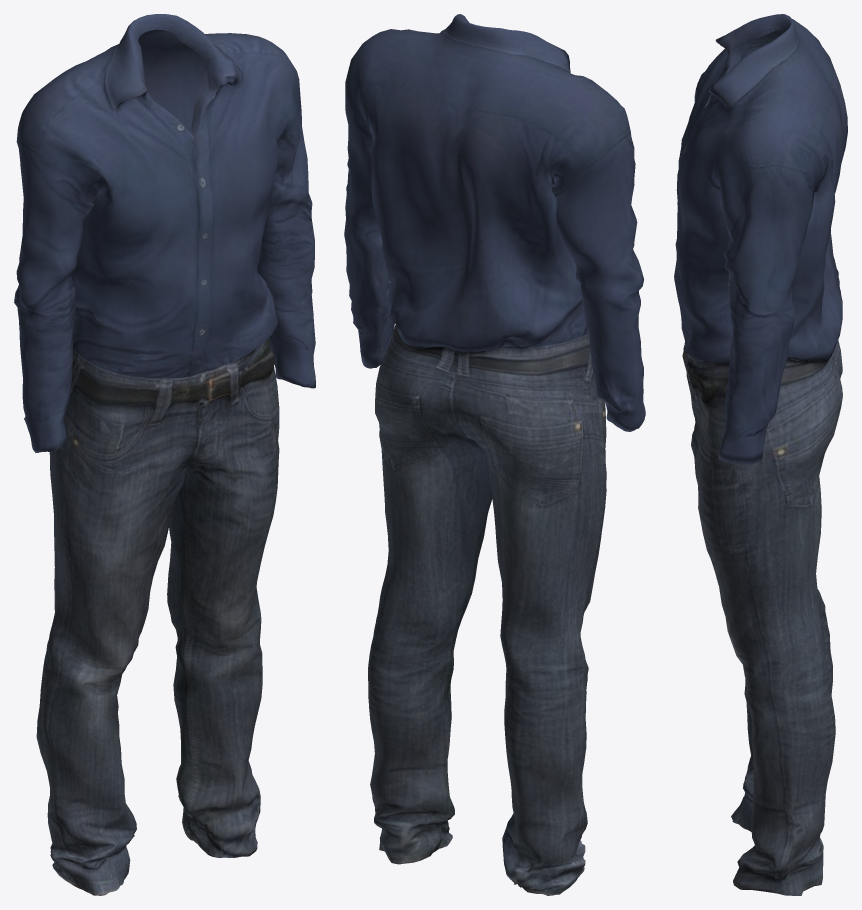
File: bottom_jeans_belted.gltf
3 renders of one model, left to right at view 1: azimuth 30°, elevation 25°; view 2: azimuth 150°, elevation 25°; view 3: azimuth 270°, elevation 25°, orthographic.
Visible parts, largest first — view 1: bottom_jeans_belted; view 2: bottom_jeans_belted; view 3: bottom_jeans_belted.
Boxes of the visible parts, box(x1,y1,x2,y2) form: bottom_jeans_belted: box(14, 14, 315, 895); bottom_jeans_belted: box(344, 14, 645, 895); bottom_jeans_belted: box(674, 14, 847, 895).
Size of the model in its own units: 0.5111 by 1.41 by 0.2678.
Materials: 1 (1 with a texture image).
